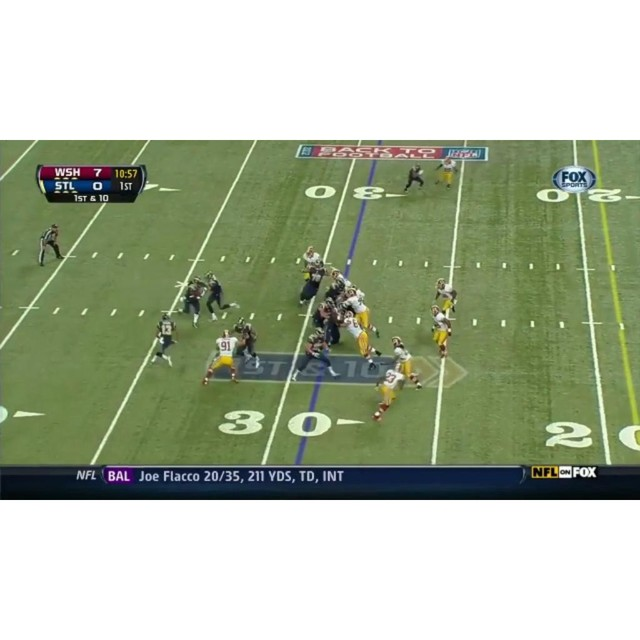american-football-player: (342, 309, 382, 370), (292, 329, 338, 382), (202, 329, 240, 386), (345, 288, 381, 340), (204, 270, 240, 322), (372, 366, 405, 421), (391, 336, 423, 390), (177, 278, 204, 329), (233, 317, 260, 368), (152, 313, 177, 368), (298, 263, 326, 308), (430, 305, 452, 358), (433, 278, 458, 317), (324, 301, 344, 345), (434, 155, 457, 190), (312, 297, 334, 332), (404, 164, 424, 193)
referee: (37, 222, 63, 267)
